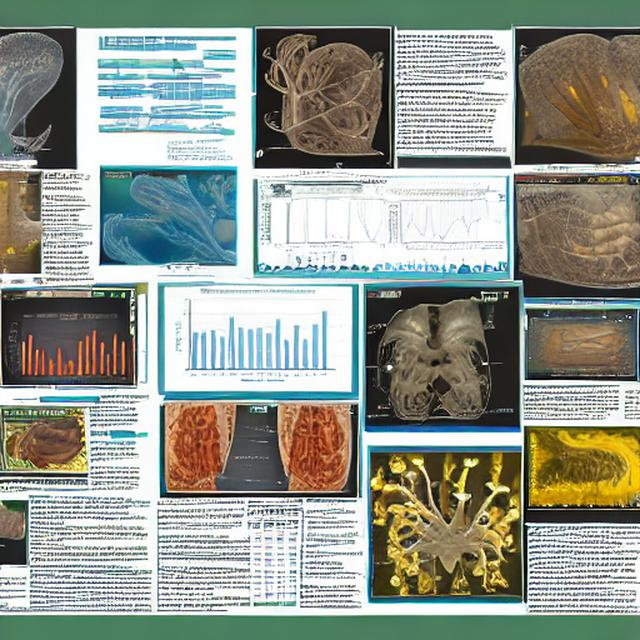Graph: (172, 287, 342, 387), (4, 311, 129, 385), (387, 198, 483, 253)
